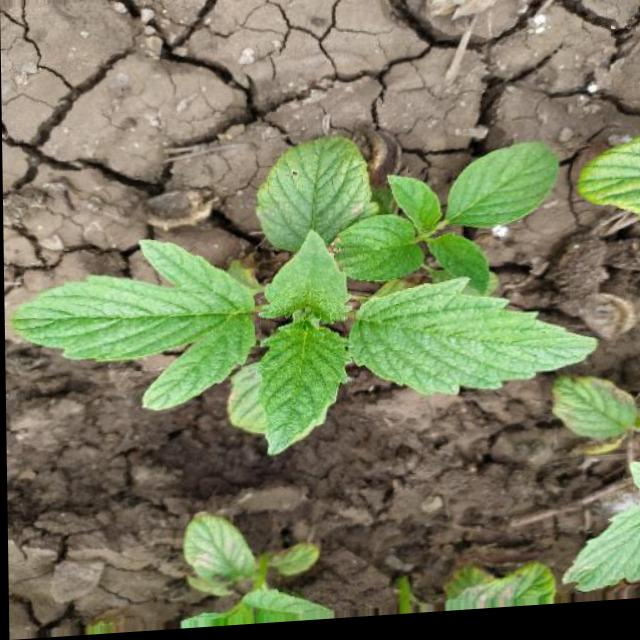crop: (25, 126, 603, 464)
